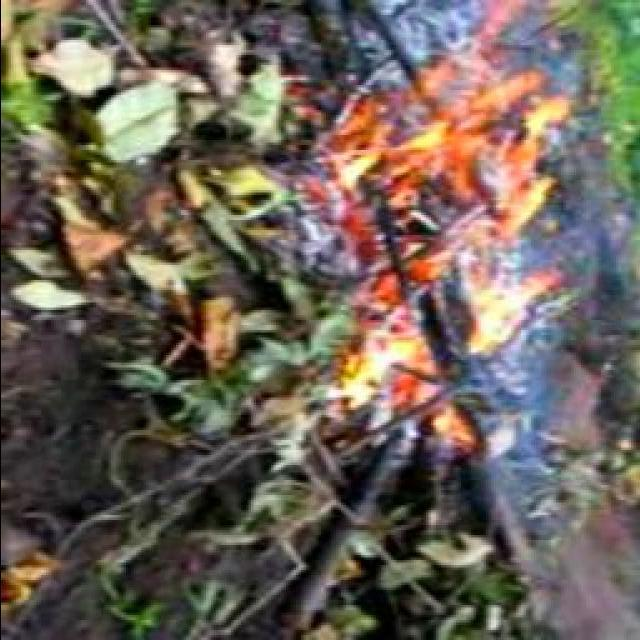Fire: (356, 57, 570, 414)
